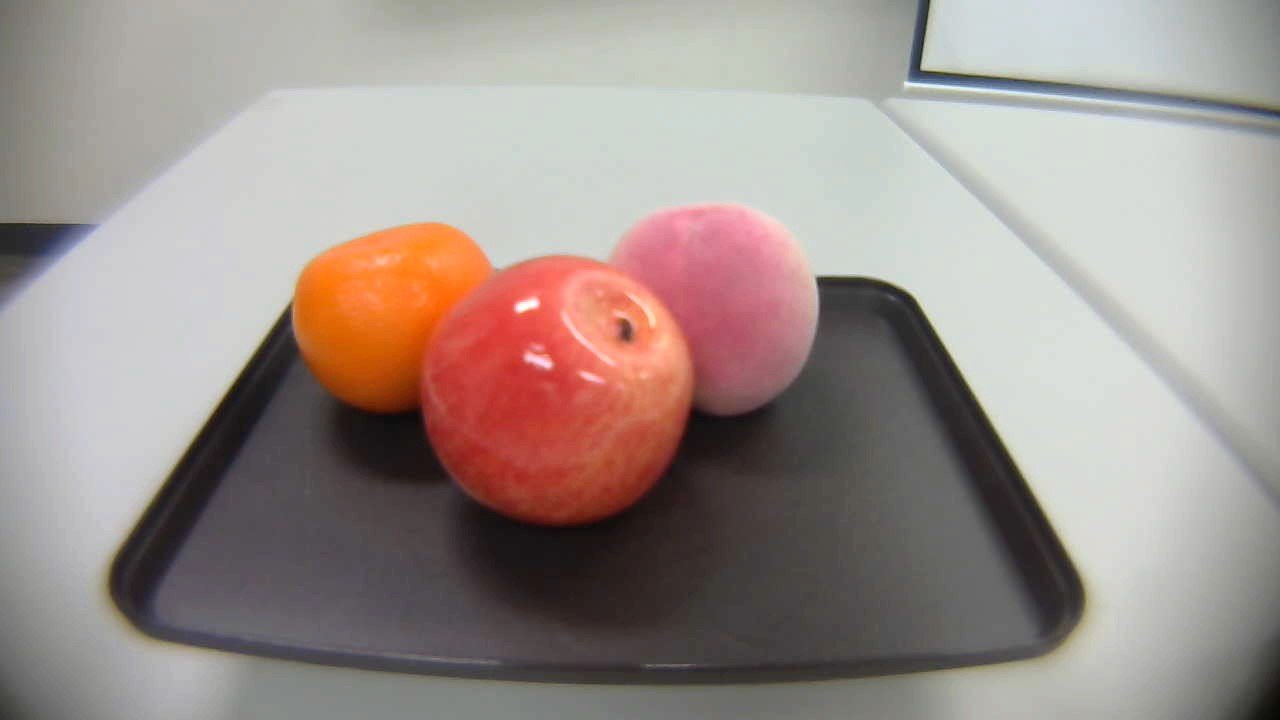orange: (283, 216, 509, 413)
peach: (599, 205, 818, 419)
red apple: (423, 256, 689, 532)
